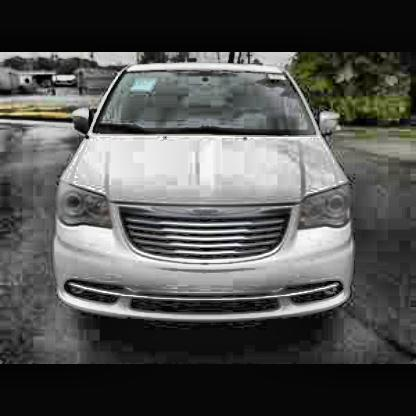Chrysler Town and Country Minivan 2012: (54, 66, 354, 328)
